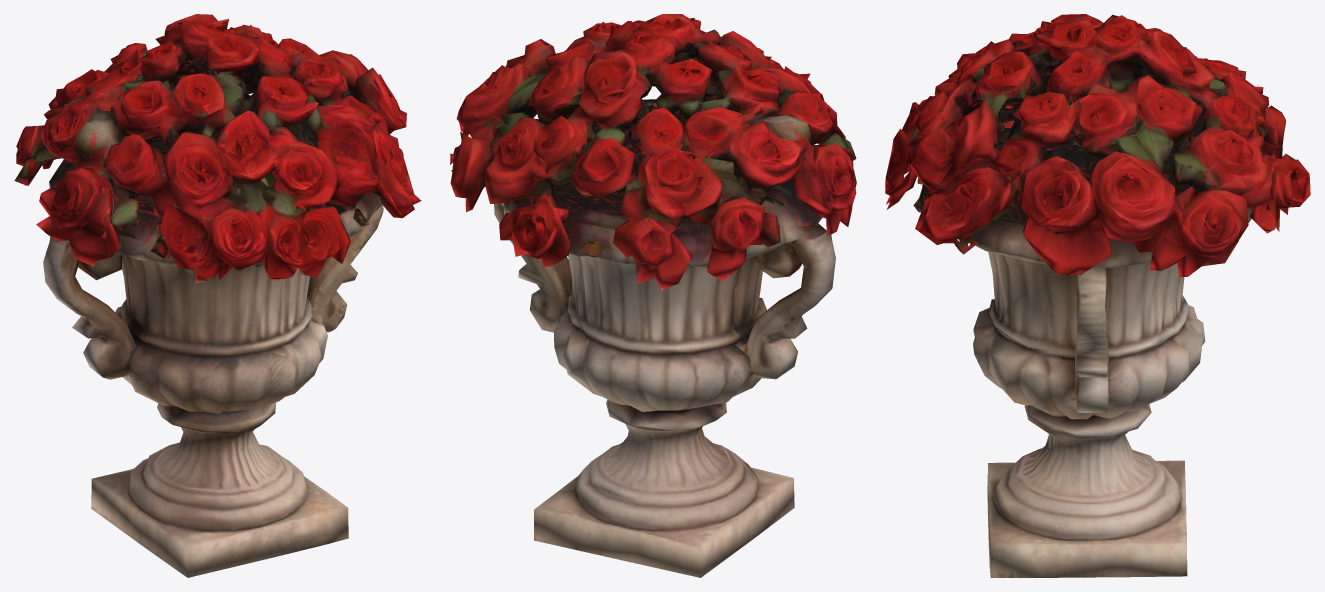
Rendered from giardino_urn__roses_02.glb.
The picture shows the model from 3 angles, left to right: view 1: azimuth 30°, elevation 25°; view 2: azimuth 150°, elevation 25°; view 3: azimuth 270°, elevation 25°; orthographic projection. The views are drawn at different scales.
Parts seen in each view (by area): view 1: Object_4; view 2: Object_4; view 3: Object_4.
Boxes of the visible parts, x1=… form: Object_4: x1=14, y1=14, x2=421, y2=577; Object_4: x1=450, y1=14, x2=856, y2=577; Object_4: x1=885, y1=14, x2=1310, y2=577.
Size of the model in its own units: 1.5 by 1.99 by 1.49.
1 material, 1 textured.
